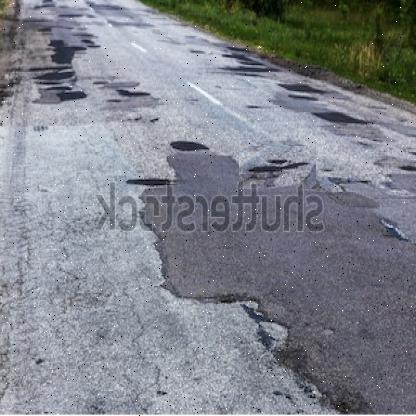damage: (25, 32, 108, 113), (238, 146, 316, 190)
